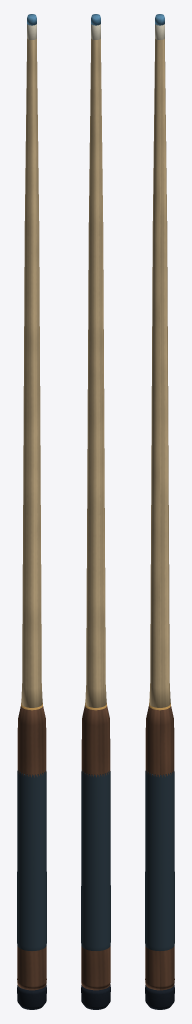
File: cue.glb
The picture shows the model from 3 angles, left to right: view 1: azimuth 90°, elevation 25°; view 2: azimuth 150°, elevation 25°; view 3: azimuth 270°, elevation 25°; orthographic projection.
Parts seen in each view (by area): view 1: Shaft, Wrap, Butt, ButtCap, Ferrule; view 2: Shaft, Wrap, Butt, ButtCap, Ferrule; view 3: Shaft, Wrap, Butt, ButtCap, Ferrule.
Part boxes in pixels (x1=…): Shaft: x1=21, y1=38, x2=42, y2=707; Wrap: x1=17, y1=770, x2=46, y2=950; Butt: x1=17, y1=706, x2=46, y2=990; ButtCap: x1=17, y1=985, x2=46, y2=1009; Ferrule: x1=27, y1=24, x2=36, y2=39; Shaft: x1=85, y1=38, x2=106, y2=707; Wrap: x1=81, y1=769, x2=110, y2=950; Butt: x1=81, y1=706, x2=110, y2=990; ButtCap: x1=81, y1=984, x2=110, y2=1009; Ferrule: x1=91, y1=24, x2=100, y2=39; Shaft: x1=149, y1=38, x2=170, y2=707; Wrap: x1=145, y1=770, x2=174, y2=950; Butt: x1=145, y1=706, x2=174, y2=990; ButtCap: x1=145, y1=985, x2=174, y2=1009; Ferrule: x1=155, y1=24, x2=164, y2=39.
Size of the model in its own units: 0.039 by 1.42 by 0.039.
7 materials, 7 textured.
